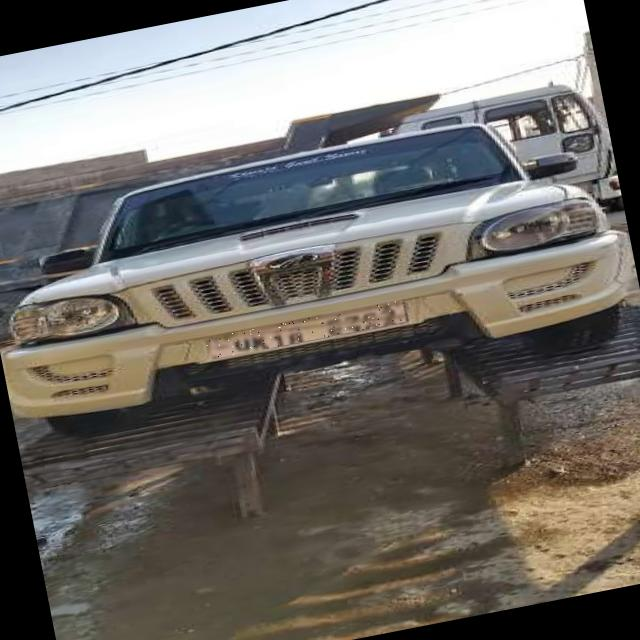Plate: (206, 302, 407, 362)
